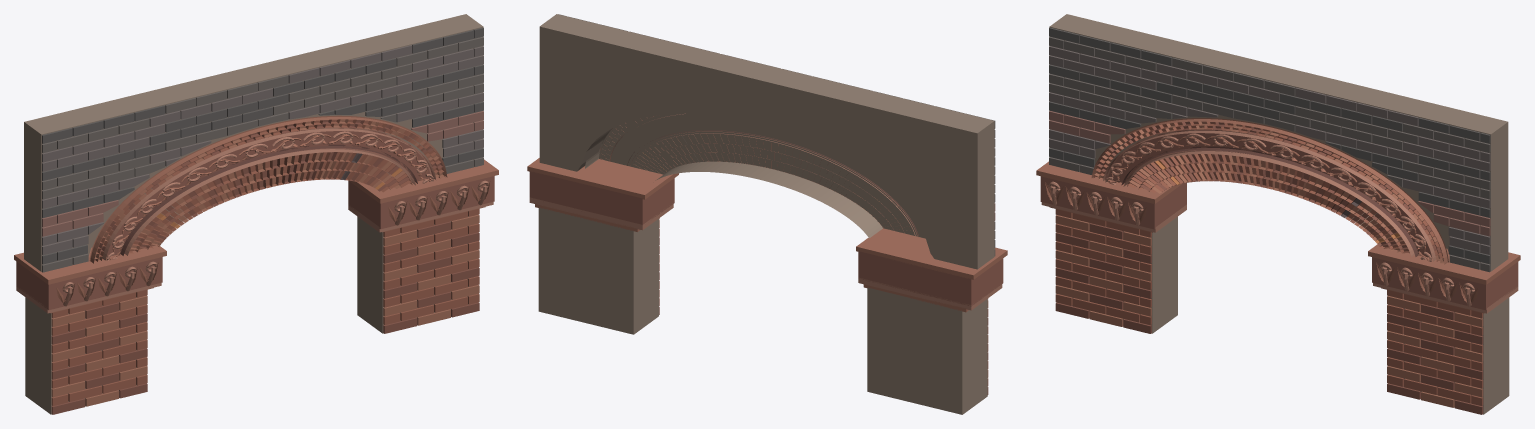
Rendered from jingan-kangding-85-porch-carved-brick-arch-raw.glb.
3 views of the same model, side by side, from view 1: azimuth 30°, elevation 25°; view 2: azimuth 150°, elevation 25°; view 3: azimuth 330°, elevation 25° (orthographic).
Visible parts, largest first — view 1: 康定东路85号李宅门廊砖雕拱券; view 2: 康定东路85号李宅门廊砖雕拱券; view 3: 康定东路85号李宅门廊砖雕拱券.
Part boxes in pixels (x1,y1,x2,y2): 康定东路85号李宅门廊砖雕拱券: (14,14,498,414); 康定东路85号李宅门廊砖雕拱券: (527,14,1007,414); 康定东路85号李宅门廊砖雕拱券: (1036,14,1520,414).
Size of the model in its own units: 6 by 3.58 by 0.8708.
